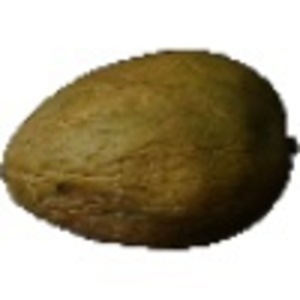mamão: (3, 42, 289, 254)
